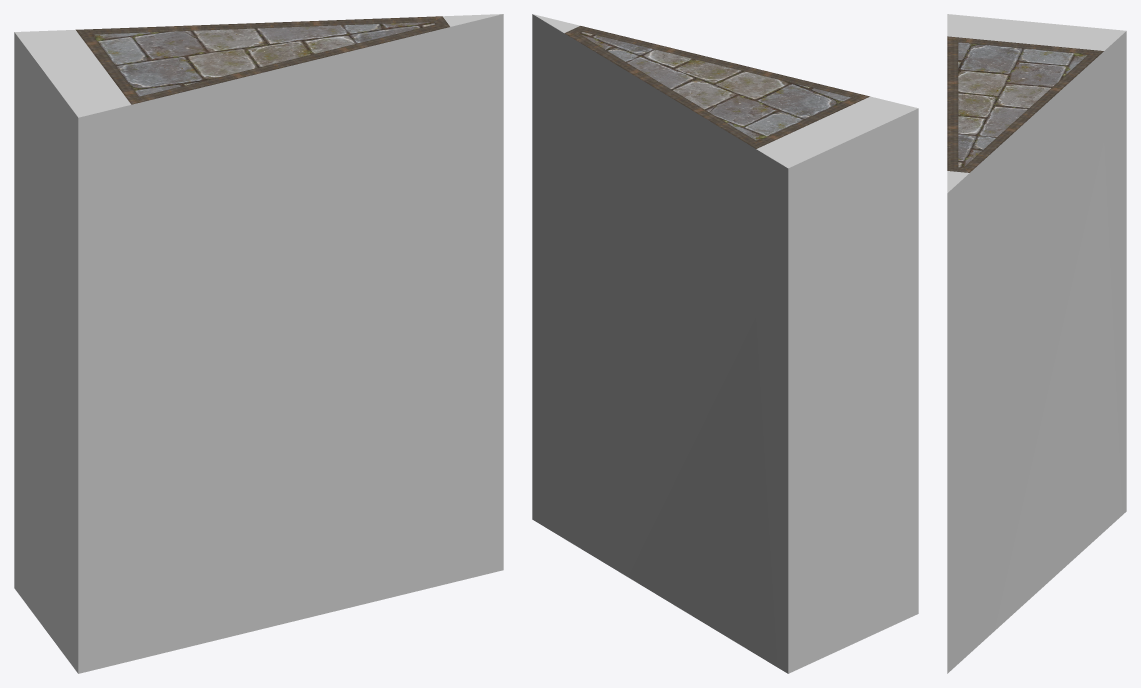
3 renders of one model, left to right at view 1: azimuth 30°, elevation 25°; view 2: azimuth 150°, elevation 25°; view 3: azimuth 270°, elevation 25°, orthographic. The views are drawn at different scales.
Parts seen in each view (by area): view 1: SM_Dowdun_Walkway_Angle_25_01_LOD0; view 2: SM_Dowdun_Walkway_Angle_25_01_LOD0; view 3: SM_Dowdun_Walkway_Angle_25_01_LOD0.
Part boxes in pixels (box(x1,y1,x2,y2)): SM_Dowdun_Walkway_Angle_25_01_LOD0: box(14, 14, 503, 673); SM_Dowdun_Walkway_Angle_25_01_LOD0: box(532, 14, 918, 673); SM_Dowdun_Walkway_Angle_25_01_LOD0: box(947, 14, 1126, 673).
Size of the model in its own units: 8 by 10 by 3.38.
3 materials, 2 textured.
